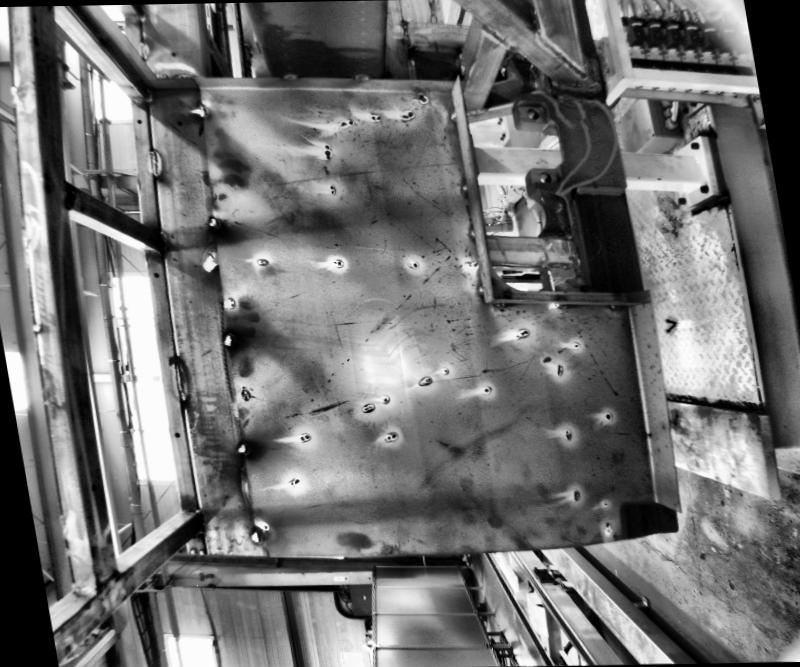hole: (534, 169, 549, 183), (526, 109, 542, 121), (166, 48, 178, 56), (151, 271, 161, 277), (175, 120, 184, 126), (173, 430, 180, 436), (138, 118, 142, 122)
welding: (538, 36, 582, 75), (480, 24, 506, 50), (176, 358, 188, 405), (236, 437, 254, 458), (137, 37, 151, 61), (206, 214, 224, 232), (148, 146, 158, 174), (195, 102, 207, 119), (352, 71, 371, 81), (446, 108, 460, 121), (222, 333, 236, 346), (158, 232, 167, 252), (249, 528, 262, 541), (604, 302, 624, 310), (458, 179, 470, 192), (465, 224, 475, 236), (545, 301, 566, 306), (284, 72, 297, 79), (476, 284, 482, 295), (490, 301, 500, 306)
